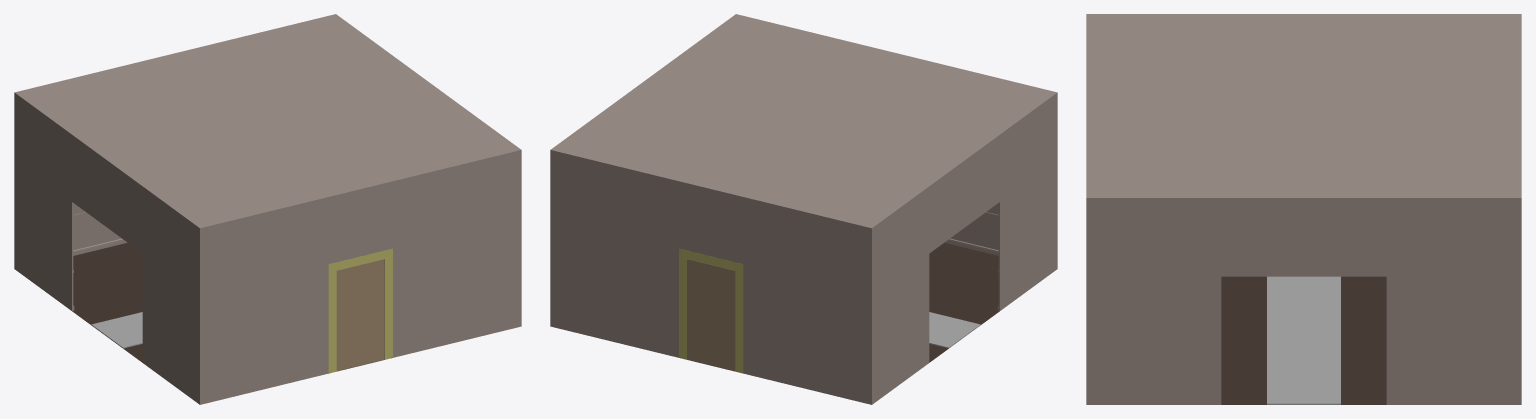
The model's file is Room20_Foyer.fbx.
3 renders of one model, left to right at view 1: azimuth 30°, elevation 25°; view 2: azimuth 150°, elevation 25°; view 3: azimuth 270°, elevation 25°, orthographic. The views are drawn at different scales.
Visible parts, largest first — view 1: Roof, WallSlicedPosZ, WallOpenPosX, Floor, DoorPosZ, DoorFramePosZ, WallSlicedNegZ, pCube26, WallOpenNegX; view 2: Roof, WallSlicedNegZ, WallOpenPosX, Floor, DoorNegZ, DoorFrameNegZ, WallSlicedPosZ, pCube26, WallOpenNegX; view 3: Roof, WallOpenNegX, Floor, pCube26, WallSlicedPosZ, WallSlicedNegZ, WallOpenPosX.
Part boxes in pixels (x1,y1,x2,y2): Roof: [17, 15, 518, 227]; WallSlicedPosZ: [198, 149, 520, 404]; WallOpenPosX: [14, 92, 202, 404]; Floor: [72, 242, 392, 373]; DoorPosZ: [336, 259, 384, 370]; DoorFramePosZ: [328, 248, 392, 372]; WallSlicedNegZ: [14, 14, 335, 269]; pCube26: [91, 312, 142, 348]; WallOpenNegX: [335, 14, 521, 326]; Roof: [553, 15, 1054, 227]; WallSlicedNegZ: [550, 149, 872, 404]; WallOpenPosX: [869, 92, 1057, 404]; Floor: [679, 242, 999, 373]; DoorNegZ: [687, 259, 735, 370]; DoorFrameNegZ: [679, 248, 743, 372]; WallSlicedPosZ: [736, 14, 1057, 269]; pCube26: [929, 312, 980, 348]; WallOpenNegX: [550, 14, 736, 326]; Roof: [1088, 14, 1519, 197]; WallOpenNegX: [1086, 197, 1521, 404]; Floor: [1221, 276, 1386, 404]; pCube26: [1267, 276, 1340, 404]; WallSlicedPosZ: [1086, 14, 1088, 404]; WallSlicedNegZ: [1518, 14, 1521, 404]; WallOpenPosX: [1086, 14, 1521, 14].
Bounding box in the file's own units: 100 × 52.5 × 100.
